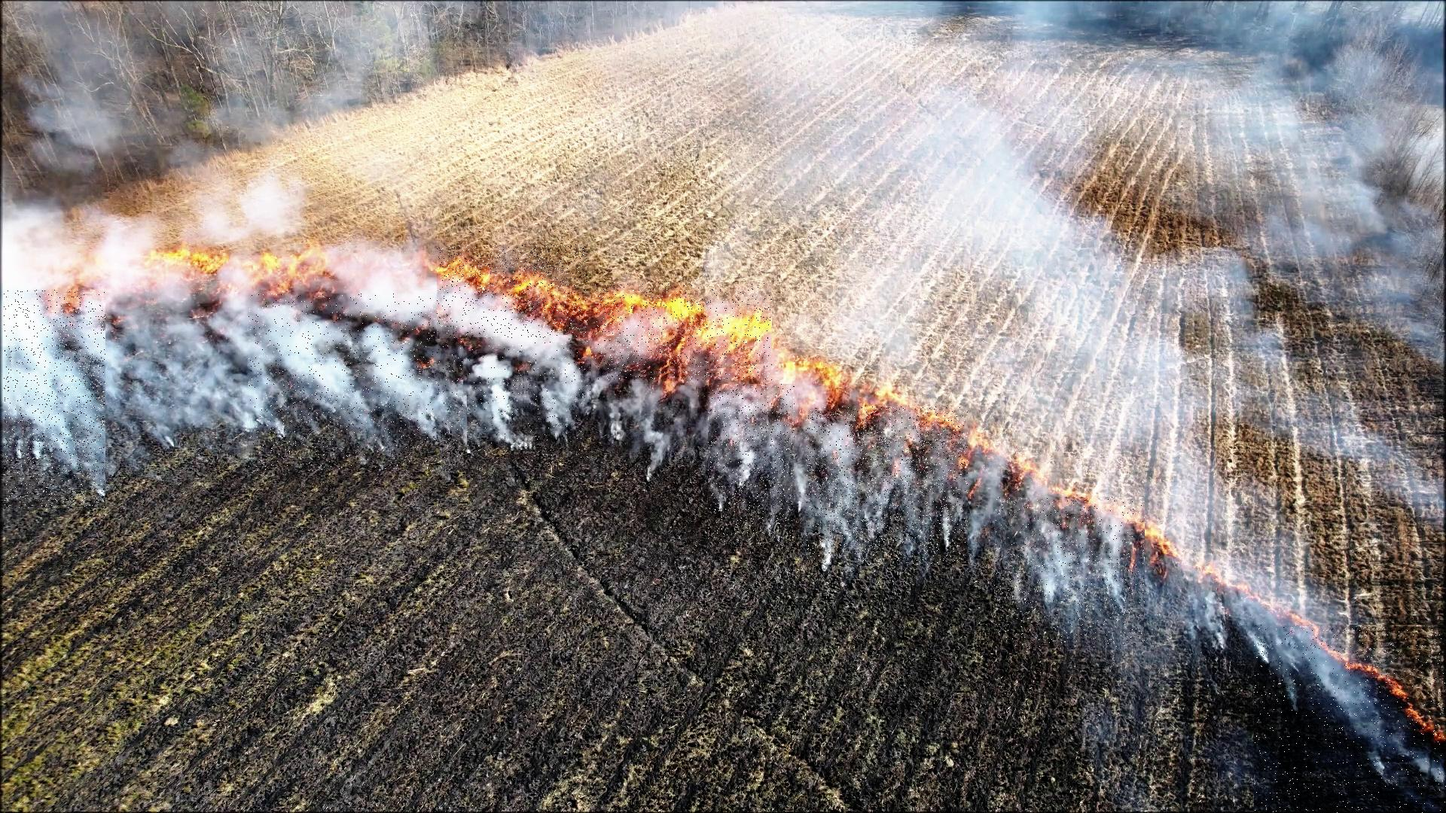fire: (595, 282, 772, 380), (437, 245, 587, 339)
smoke: (249, 294, 463, 470), (1254, 625, 1446, 813), (806, 406, 968, 565), (994, 497, 1145, 647), (4, 290, 105, 508), (708, 384, 795, 542), (523, 331, 591, 459), (467, 343, 527, 459)
